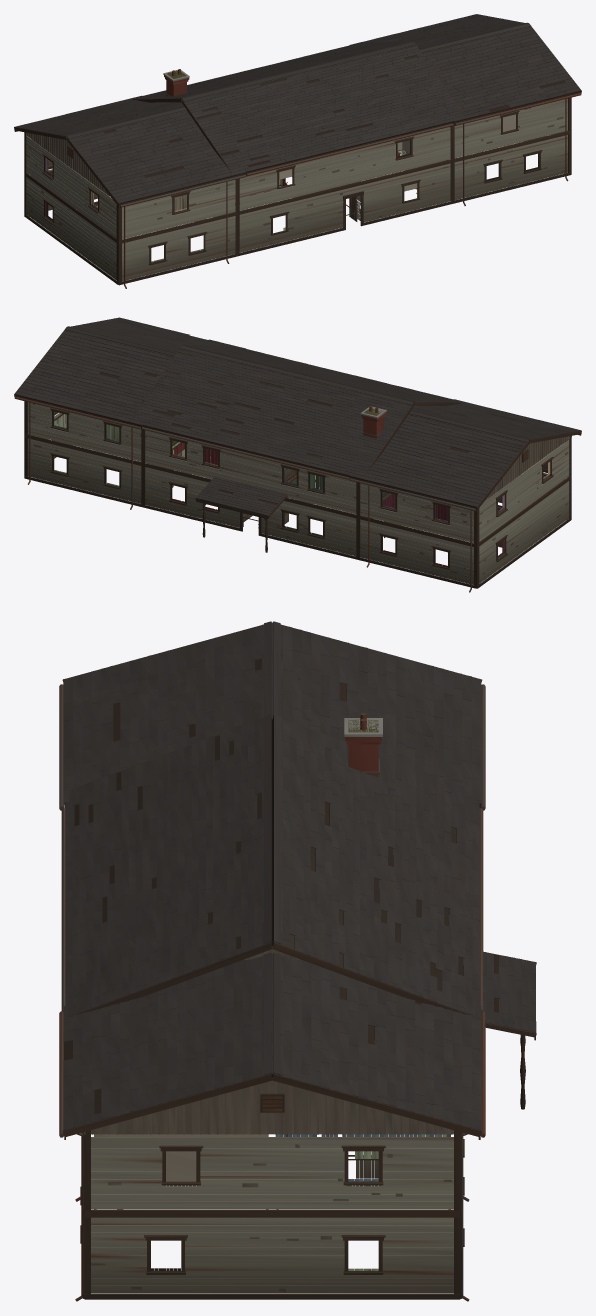
Rendered from CannibalFamilyMeshes5.glb.
3 views of the same model, one above another, from view 1: azimuth 30°, elevation 25°; view 2: azimuth 150°, elevation 25°; view 3: azimuth 270°, elevation 25° (orthographic). The views are drawn at different scales.
Visible parts, largest first — view 1: FarmhouseExteriorXL_shingle, FarmhouseExteriorXL_clapboard_farm, FarmhouseExteriorXL_trim, FarmhouseExteriorXL_iron, FarmhouseExteriorXL_siding, FarmhouseExteriorXL_roof_deck, FarmhouseExteriorXL_brick; view 2: FarmhouseExteriorXL_shingle, FarmhouseExteriorXL_clapboard_farm, FarmhouseExteriorXL_trim, FarmhouseExteriorXL_iron, FarmhouseExteriorXL_roof_deck, FarmhouseExteriorXL_siding, FarmhouseExteriorXL_brick, FarmhouseInteriorGround2_trim; view 3: FarmhouseExteriorXL_shingle, FarmhouseExteriorXL_clapboard_farm, FarmhouseExteriorXL_trim, FarmhouseExteriorXL_siding, FarmhouseExteriorXL_iron, FarmhouseExteriorXL_roof_deck, FarmhouseExteriorXL_brick, FarmhouseInteriorUpper2_plaster_raw.
Boxes of the visible parts, x1=… form: FarmhouseExteriorXL_shingle: x1=15, y1=14, x2=580, y2=203; FarmhouseExteriorXL_clapboard_farm: x1=26, y1=98, x2=567, y2=281; FarmhouseExteriorXL_trim: x1=14, y1=14, x2=581, y2=285; FarmhouseExteriorXL_iron: x1=29, y1=93, x2=581, y2=288; FarmhouseExteriorXL_siding: x1=26, y1=102, x2=565, y2=265; FarmhouseExteriorXL_roof_deck: x1=66, y1=55, x2=580, y2=203; FarmhouseExteriorXL_brick: x1=164, y1=69, x2=189, y2=102; FarmhouseExteriorXL_shingle: x1=15, y1=317, x2=580, y2=515; FarmhouseExteriorXL_clapboard_farm: x1=28, y1=402, x2=569, y2=584; FarmhouseExteriorXL_trim: x1=14, y1=322, x2=581, y2=588; FarmhouseExteriorXL_iron: x1=14, y1=396, x2=567, y2=592; FarmhouseExteriorXL_roof_deck: x1=15, y1=335, x2=476, y2=516; FarmhouseExteriorXL_siding: x1=27, y1=403, x2=571, y2=576; FarmhouseExteriorXL_brick: x1=361, y1=406, x2=386, y2=438; FarmhouseInteriorGround2_trim: x1=54, y1=413, x2=563, y2=567; FarmhouseExteriorXL_shingle: x1=63, y1=621, x2=536, y2=1130; FarmhouseExteriorXL_clapboard_farm: x1=91, y1=1137, x2=453, y2=1293; FarmhouseExteriorXL_trim: x1=62, y1=625, x2=536, y2=1299; FarmhouseExteriorXL_siding: x1=84, y1=946, x2=453, y2=1291; FarmhouseExteriorXL_iron: x1=59, y1=684, x2=485, y2=1301; FarmhouseExteriorXL_roof_deck: x1=64, y1=659, x2=498, y2=1113; FarmhouseExteriorXL_brick: x1=345, y1=713, x2=381, y2=777; FarmhouseInteriorUpper2_plaster_raw: x1=94, y1=1134, x2=268, y2=1181.
Bounding box in the file's own units: 141 × 39.67 × 62.88.
